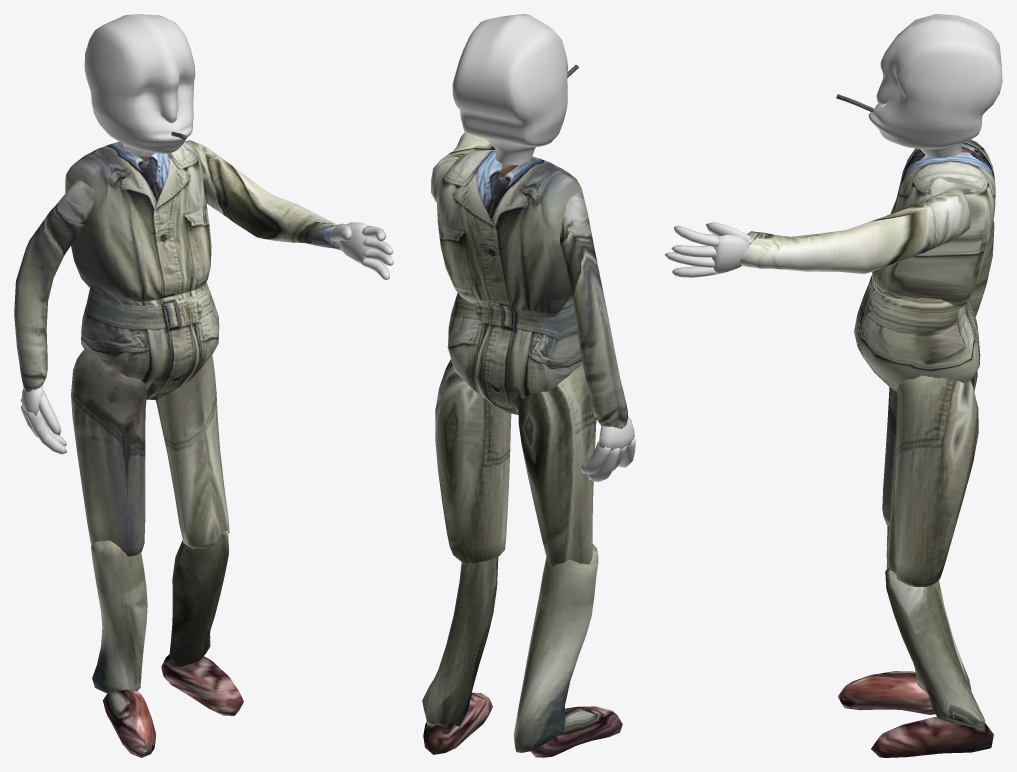
Rendered from SM_Aboubi00.fbx.
The picture shows the model from 3 angles, left to right: view 1: azimuth 30°, elevation 25°; view 2: azimuth 150°, elevation 25°; view 3: azimuth 270°, elevation 25°; orthographic projection. The views are drawn at different scales.
Visible parts, largest first — view 1: SM_Aboubi00, SM_Aboubi_Head00; view 2: SM_Aboubi00, SM_Aboubi_Head00; view 3: SM_Aboubi00, SM_Aboubi_Head00.
Boxes of the visible parts, x1,y1,x2,y2 form: SM_Aboubi00: (14,140,393,757); SM_Aboubi_Head00: (84,14,195,156); SM_Aboubi00: (422,132,635,757); SM_Aboubi_Head00: (452,14,578,165); SM_Aboubi00: (664,139,995,757); SM_Aboubi_Head00: (836,14,1002,157).
Bounding box in the file's own units: 71.85 × 199 × 85.95.
